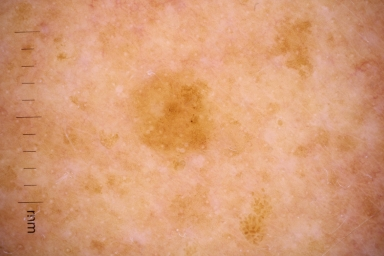melanoma: (111, 55, 251, 175)
